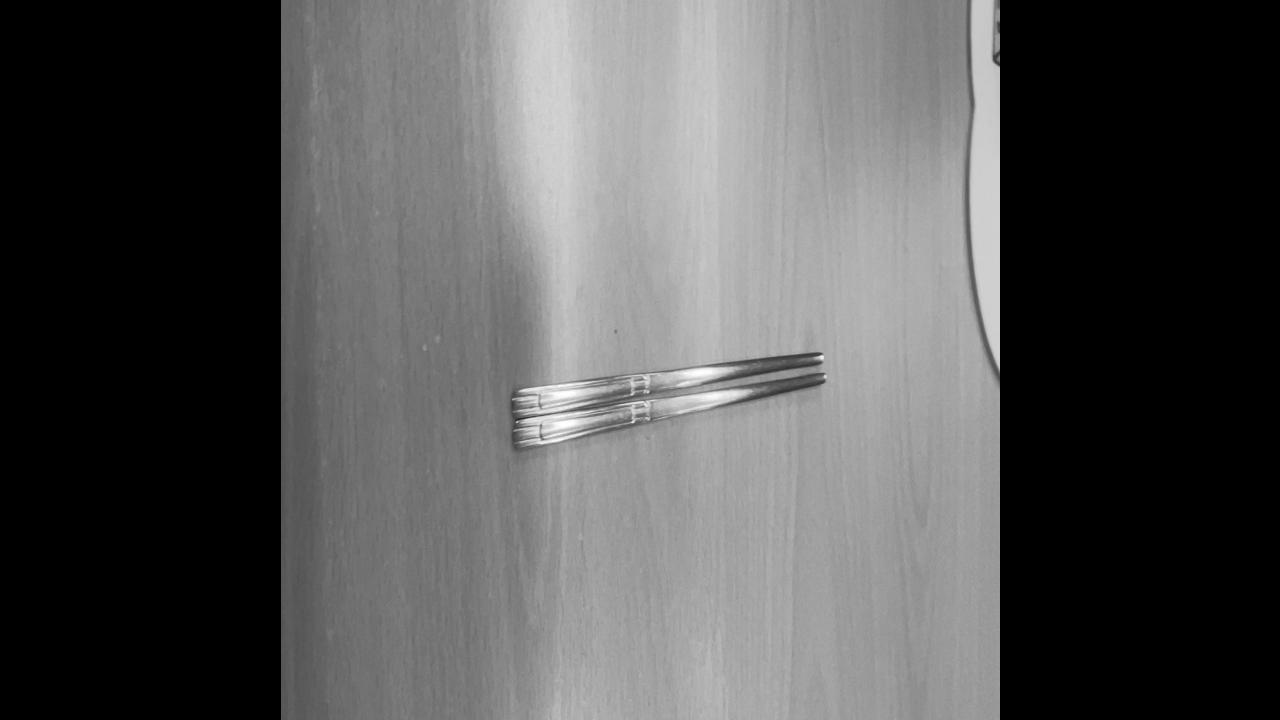chopstick: (504, 344, 828, 458)
